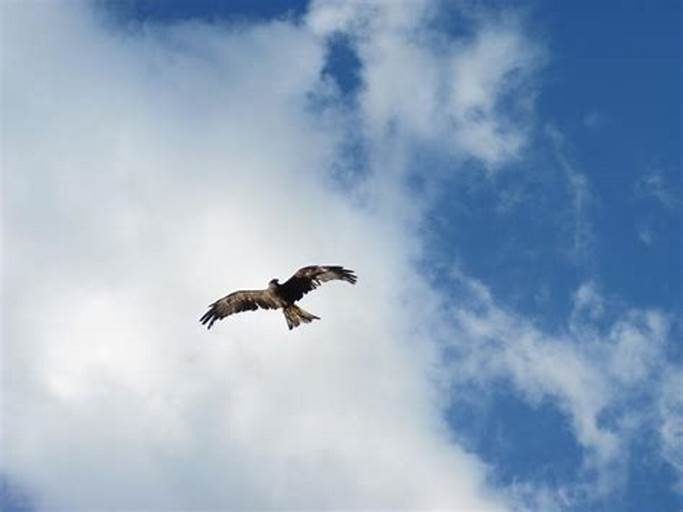bird: (180, 237, 388, 354)
